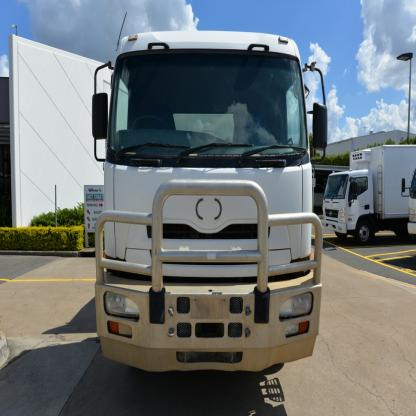dump_truck: (73, 20, 329, 382)
